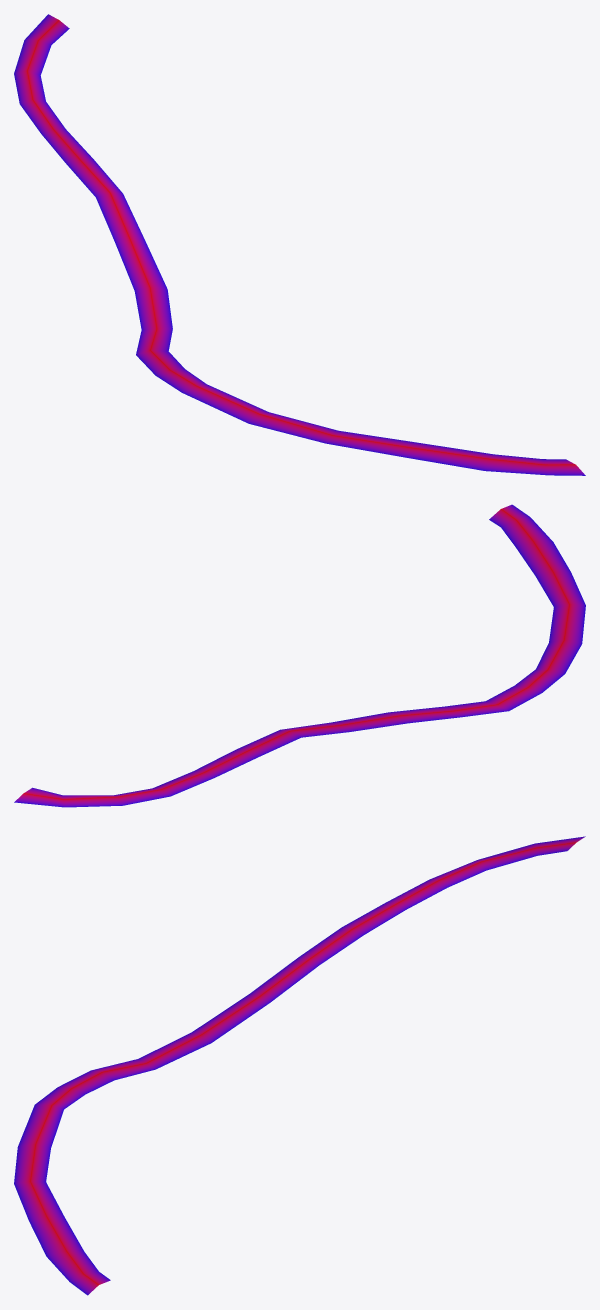
Rendered from M_River_shader_test.FBX.
3 views of the same model, one above another, from view 1: azimuth 30°, elevation 25°; view 2: azimuth 150°, elevation 25°; view 3: azimuth 330°, elevation 25° (orthographic). The views are drawn at different scales.
Visible parts, largest first — view 1: River00; view 2: River00; view 3: River00.
Part boxes in pixels (left/top/right/bottom): River00: left=14, top=14, right=585, bottom=475; River00: left=14, top=504, right=585, bottom=807; River00: left=14, top=836, right=585, bottom=1295.
Bounding box in the file's own units: 57.88 × 19.91 × 226.
